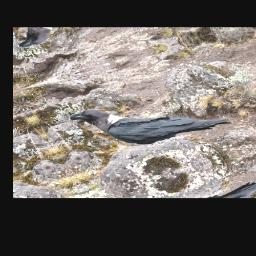Crow: (66, 76, 235, 164)
